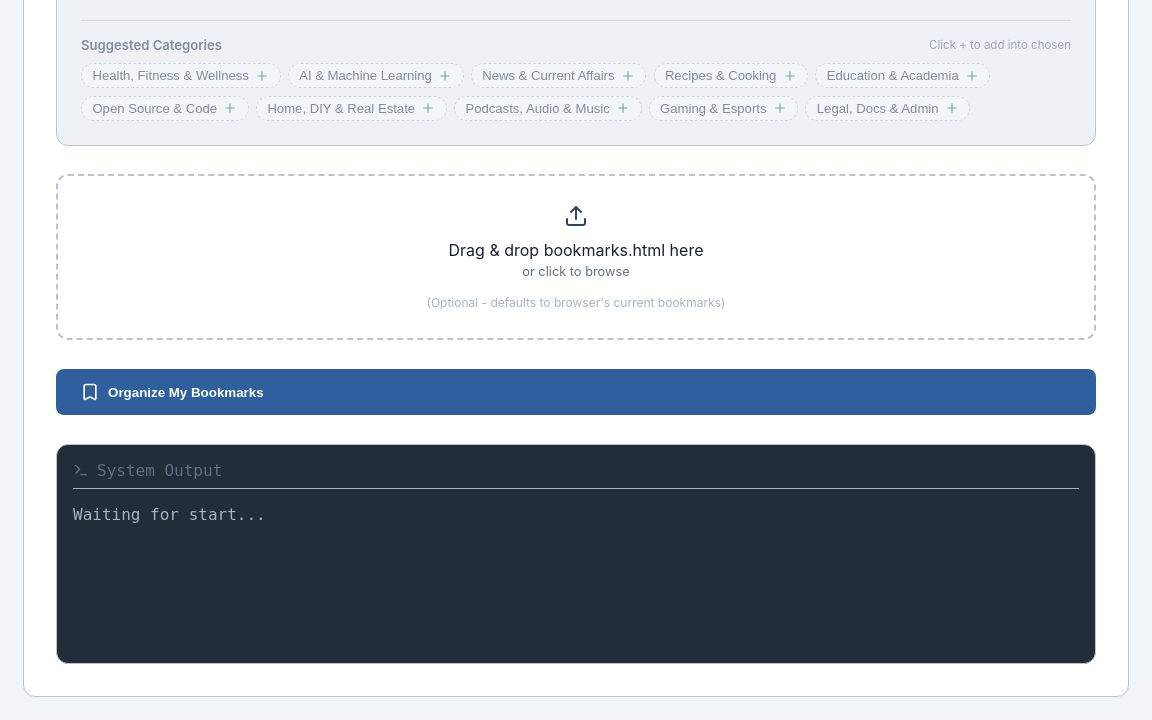
Scenario: Organizer Component UI Tests › lets browser-mode organization explain the missing API key instead of disabling the action
(page scrolled)
Click the button "Organize My Bookmarks" at (186, 392), box [56,369,1096,415]
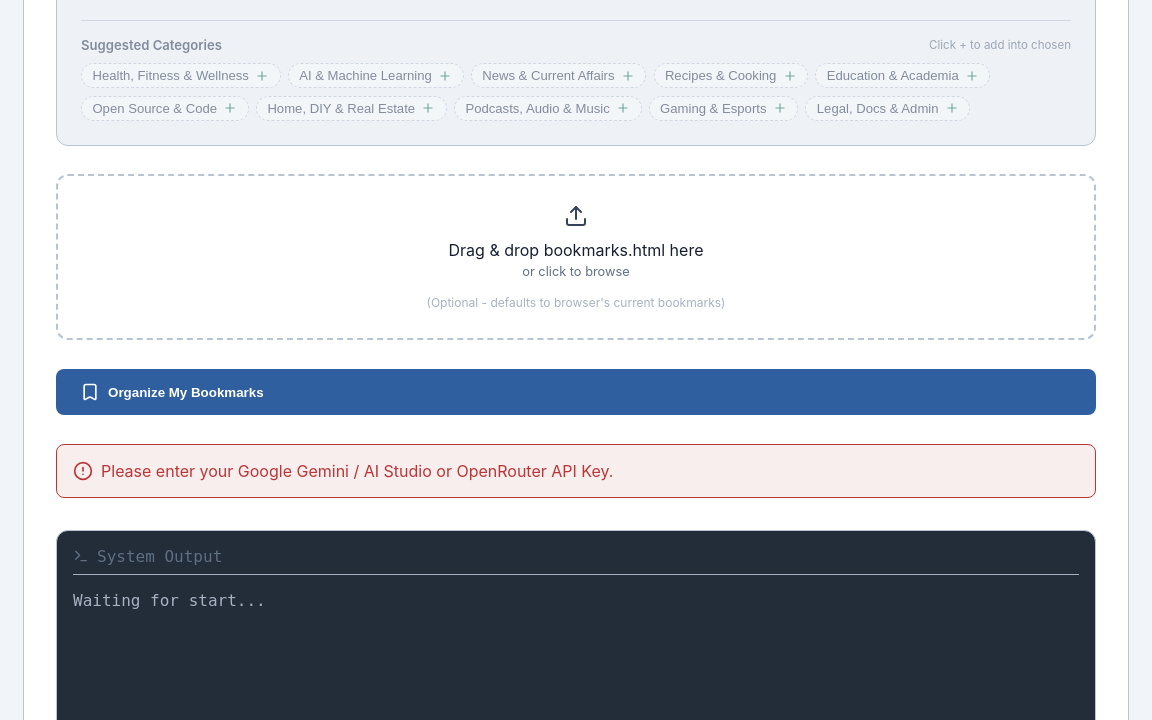
Now the text "Please enter your Google Gemini / AI Studio or OpenRouter API Key" is shown, box [101,461,613,481]
